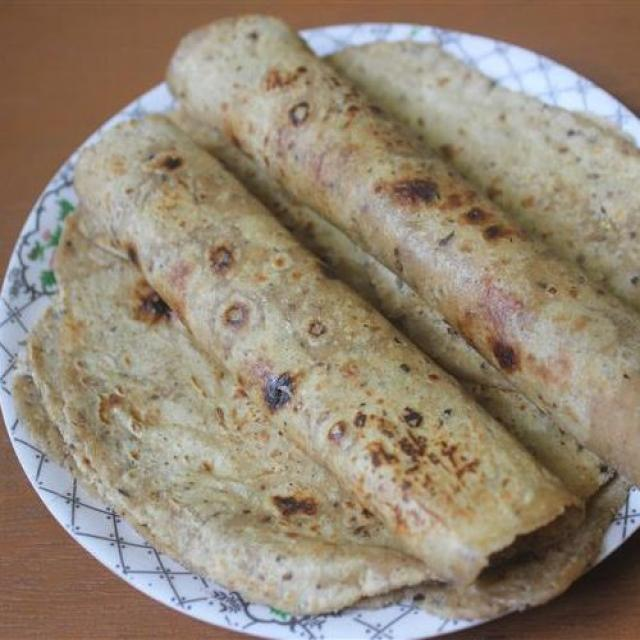Chapathi: (14, 15, 640, 624)
